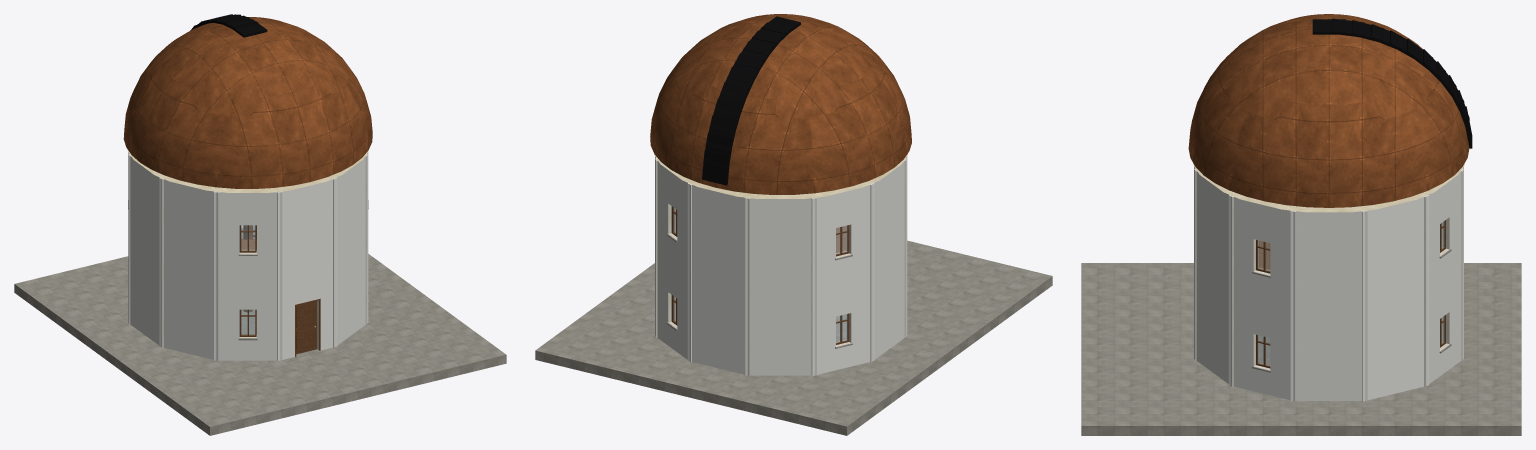
The model's file is b_observatory_dome.gltf.
The picture shows the model from 3 angles, left to right: view 1: azimuth 30°, elevation 25°; view 2: azimuth 150°, elevation 25°; view 3: azimuth 270°, elevation 25°; orthographic projection. The views are drawn at different scales.
Parts seen in each view (by area): view 1: S_observatory_dome, D_observatory_dome_F1_8_0_Door0; view 2: S_observatory_dome; view 3: S_observatory_dome.
Part boxes in pixels (box(x1,y1,x2,y2)): S_observatory_dome: box(14, 14, 506, 435); D_observatory_dome_F1_8_0_Door0: box(296, 301, 316, 354); S_observatory_dome: box(535, 14, 1052, 435); S_observatory_dome: box(1081, 14, 1521, 435).
Size of the model in its own units: 14 by 13.21 by 16.
16 materials, 9 textured.
